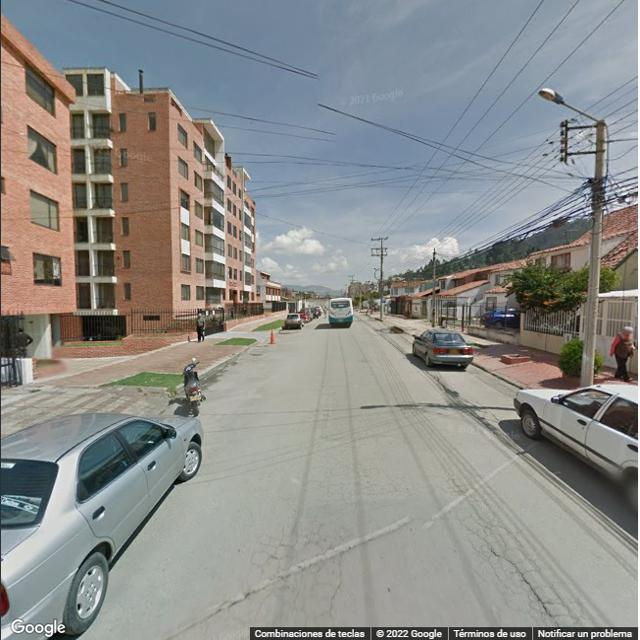D00: (482, 538, 560, 617), (329, 537, 351, 626)
D10: (182, 566, 292, 637)
